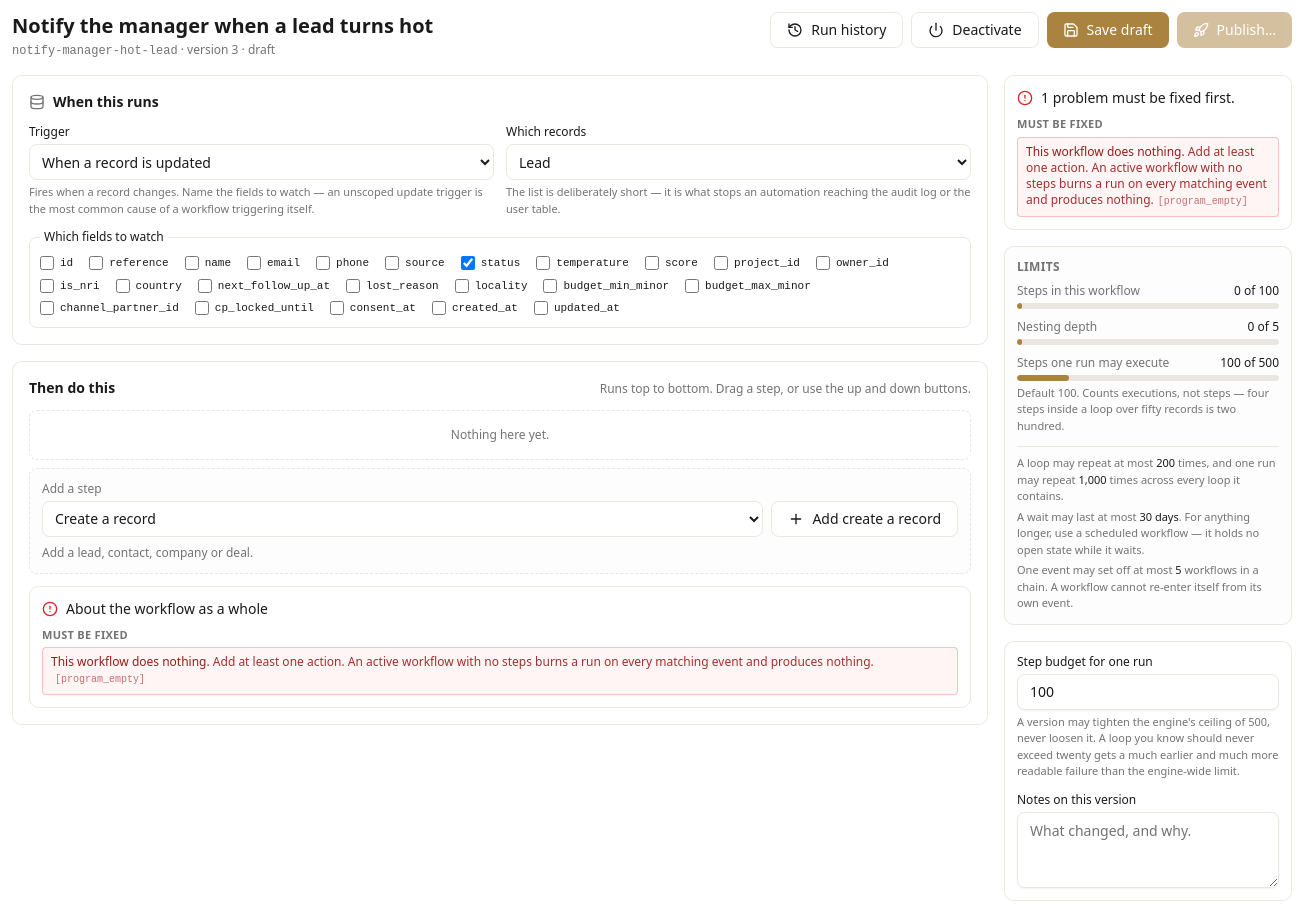
Scenario: Validation — the engine's own validator, shown inline › re-validates as the definition changes, without a round trip
Expected: the text "This workflow does nothing." below "About the workflow as a whole" is shown, [51,653,210,670]
Select "Wait" in the dropdown labelled "Add a step" at (403, 518), box [42,500,763,536]
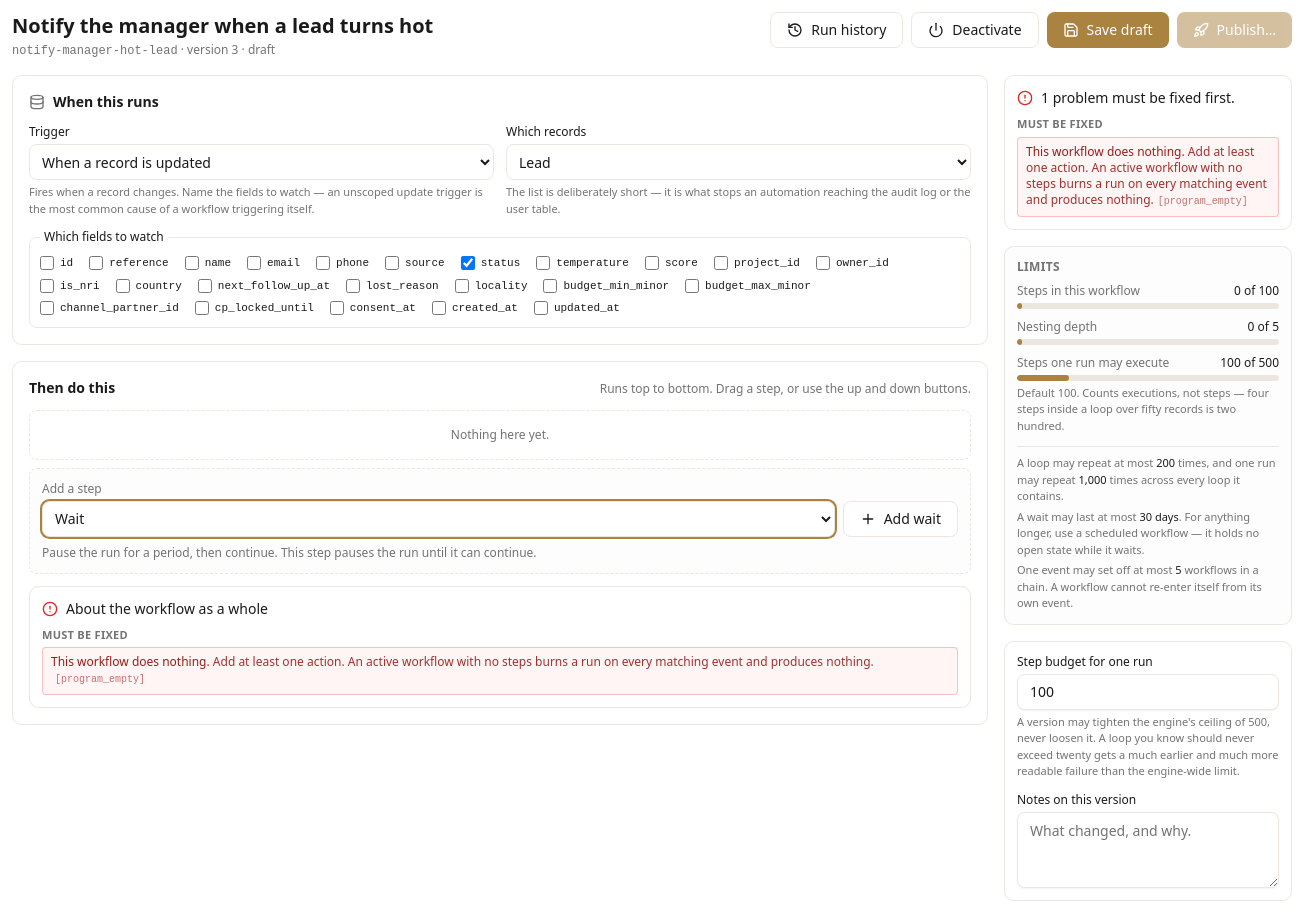
Click the button "Add wait" at (900, 518), box [843,500,958,536]
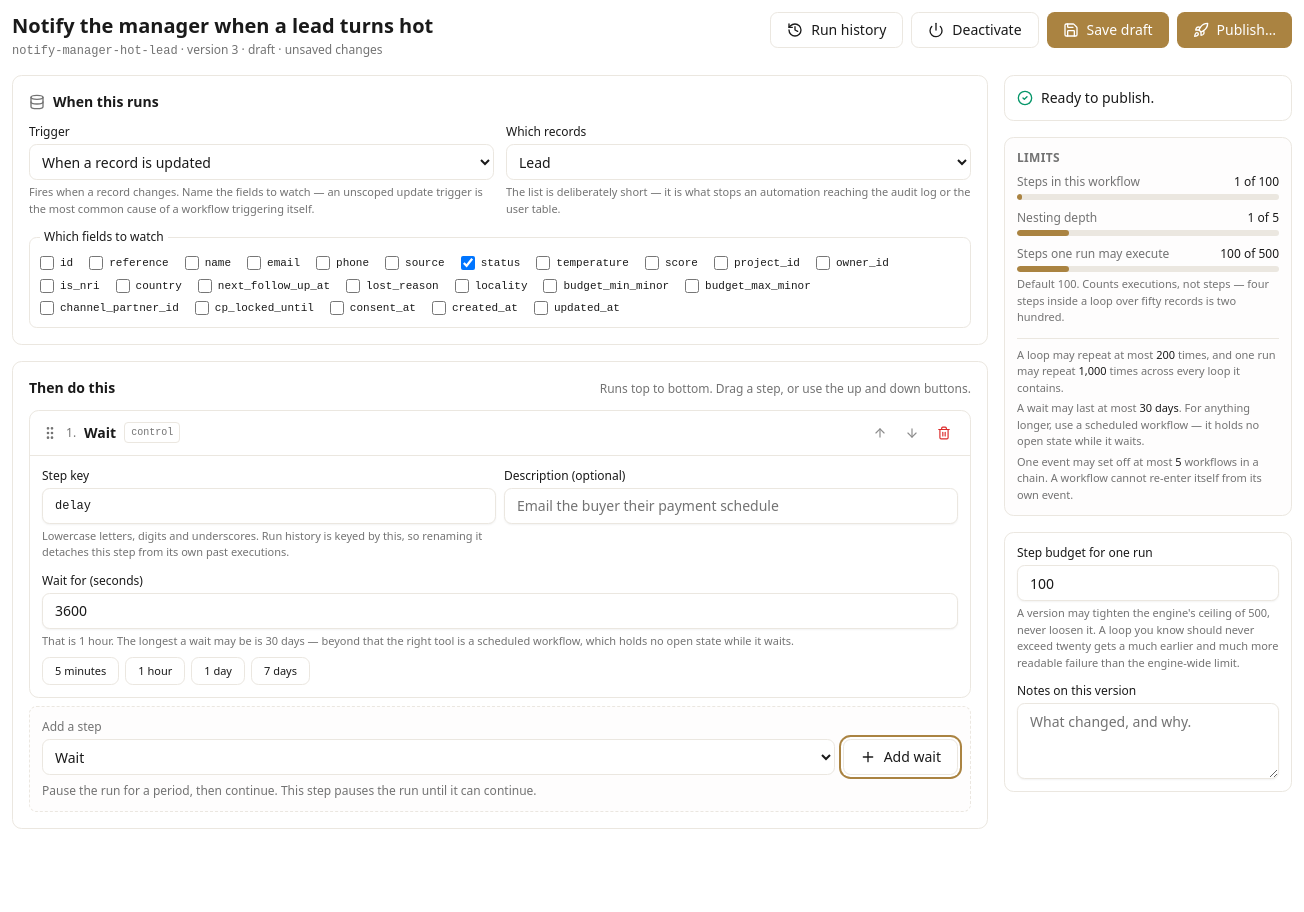
Result: the text "This workflow does nothing" is gone
